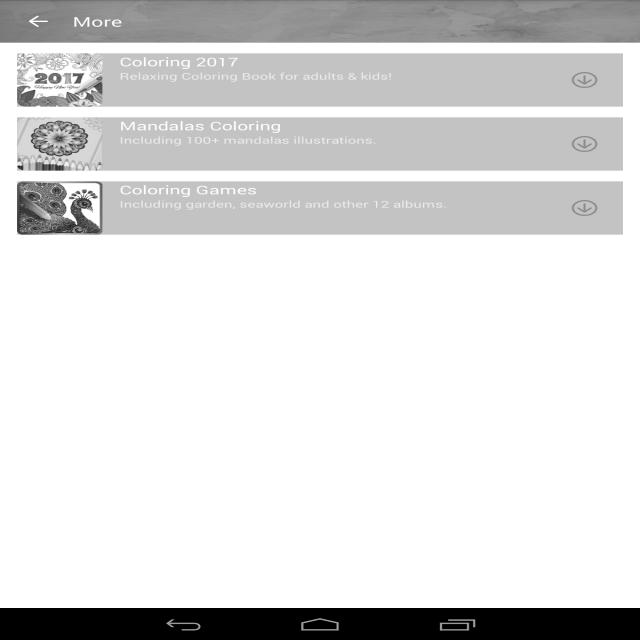ImageButton: (560, 67, 610, 95), (560, 128, 606, 156), (568, 191, 606, 218), (18, 10, 56, 31)
ImageView: (20, 115, 106, 168), (17, 52, 102, 104), (23, 182, 103, 234)
TextView: (114, 68, 406, 83), (114, 116, 293, 135), (115, 180, 272, 200), (69, 13, 128, 31)
